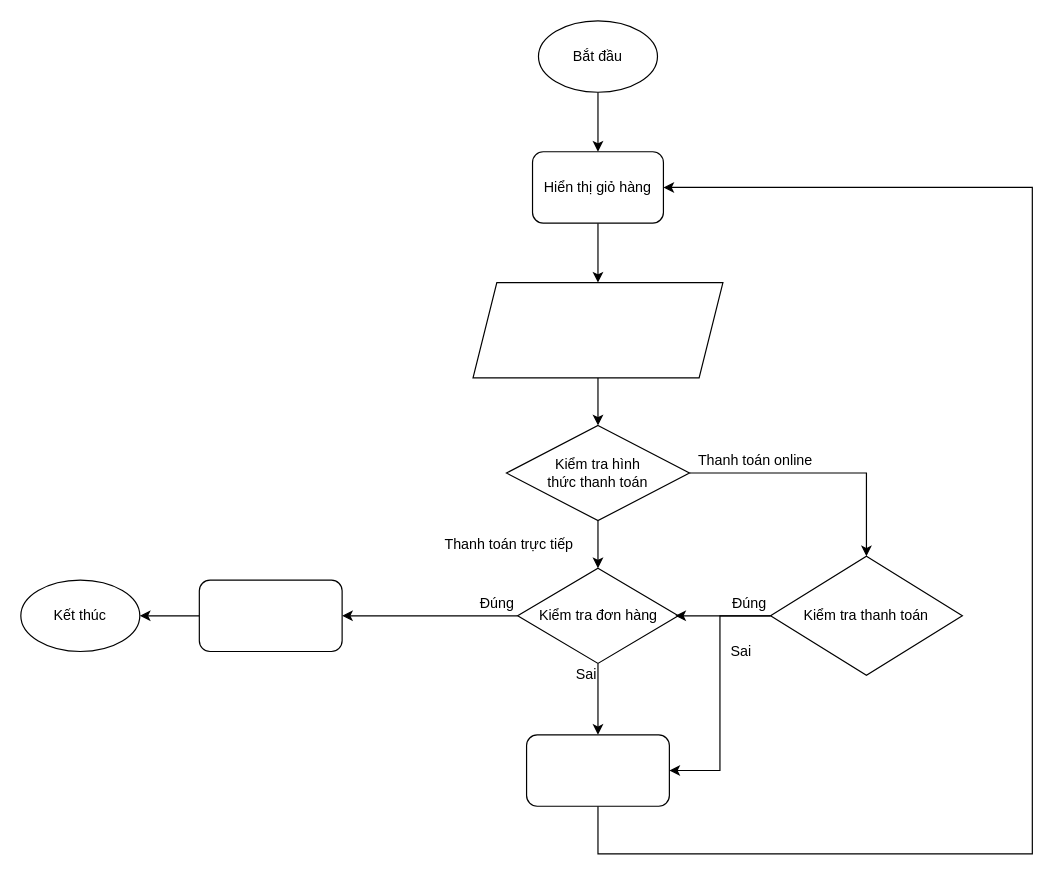
This 1063x884 diagram has some shape labels left out. Each missing label, with the box of its shape:
Chọn số lượng và hình thức thanh toán: (472, 281, 723, 378)
Hiển thị lỗi: (525, 734, 669, 806)
Hiển thị thông báo thành công: (198, 579, 342, 652)
